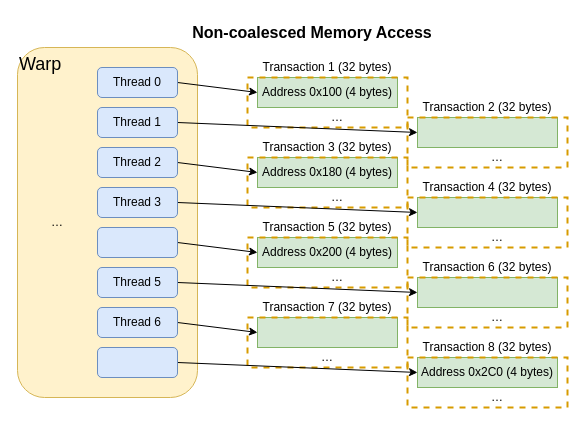
Image size: 586x425. Some labels were removed from this diagram. The centre of each missing label's shape, as x and y in pixels:
"Address 0x140 (4 bytes)" belongs at point 487,132.
"Address 0x1C0 (4 bytes)" belongs at point 487,212.
"Address 0x240 (4 bytes)" belongs at point 487,292.
"Address 0x280 (4 bytes)" belongs at point 327,332.
"Thread 4" belongs at point 137,242.
"Thread 7" belongs at point 137,362.
